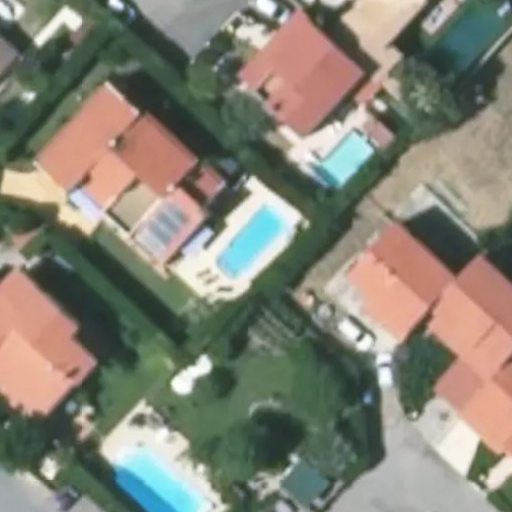pool: (206, 201, 290, 290), (112, 447, 205, 512), (318, 126, 376, 191)
